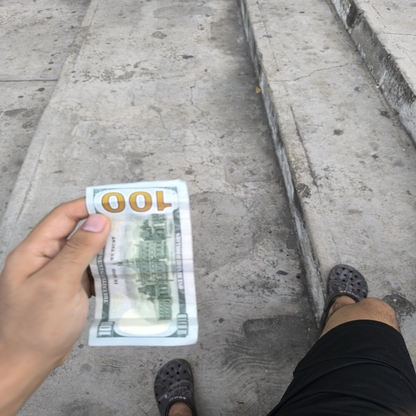one_hundred-back: (81, 179, 205, 349)
